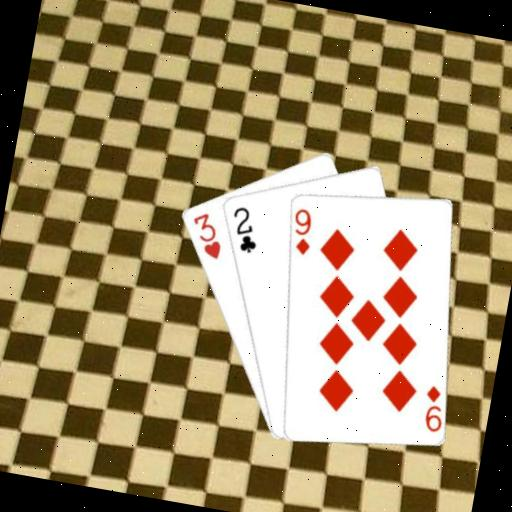2C: (223, 202, 264, 256)
3H: (183, 207, 228, 262)
9D: (286, 203, 318, 257), (416, 381, 448, 435)
